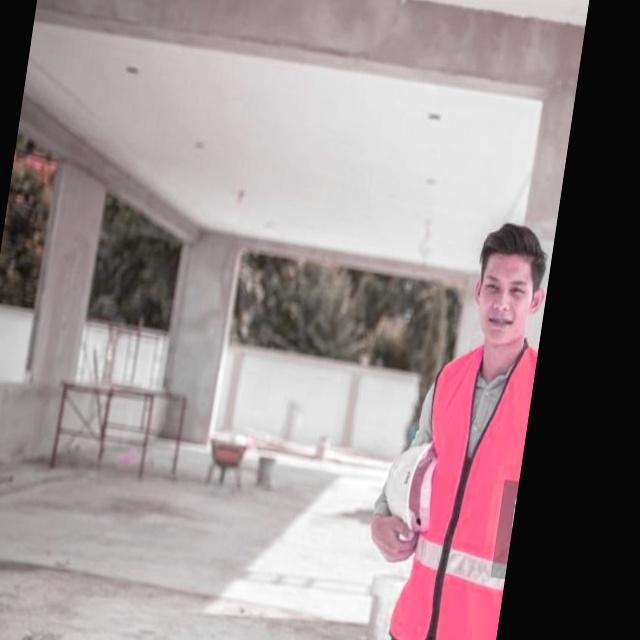Con_Chaleco: (385, 335, 538, 640)
Sin_Casco_Mascarrilla: (464, 216, 555, 351)
